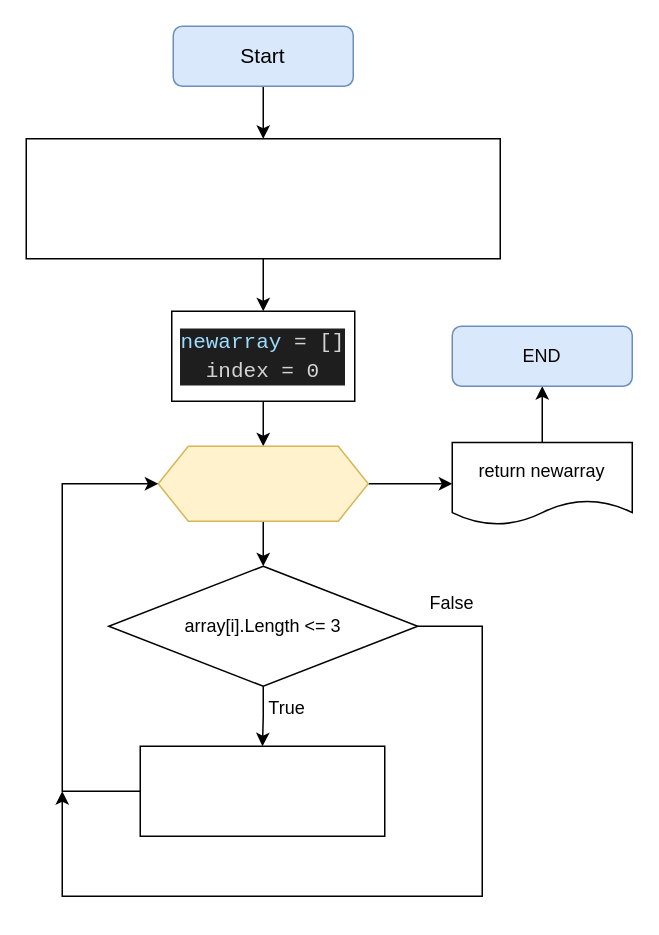
Image size: 659x935. Some labels were removed from this diagram. The shapes that lost their labels are listed below. From the top down, each one's box as (x1, y1, x2, y2) in pixels, then its label:
(25, 137, 500, 259): array = { "1" , "22" , "333" , "4444" , "55555" , "YES" }
(157, 445, 368, 521): i = 0; i<a.length; i++
(139, 745, 385, 836): newarray[index] = array[i]; index++
